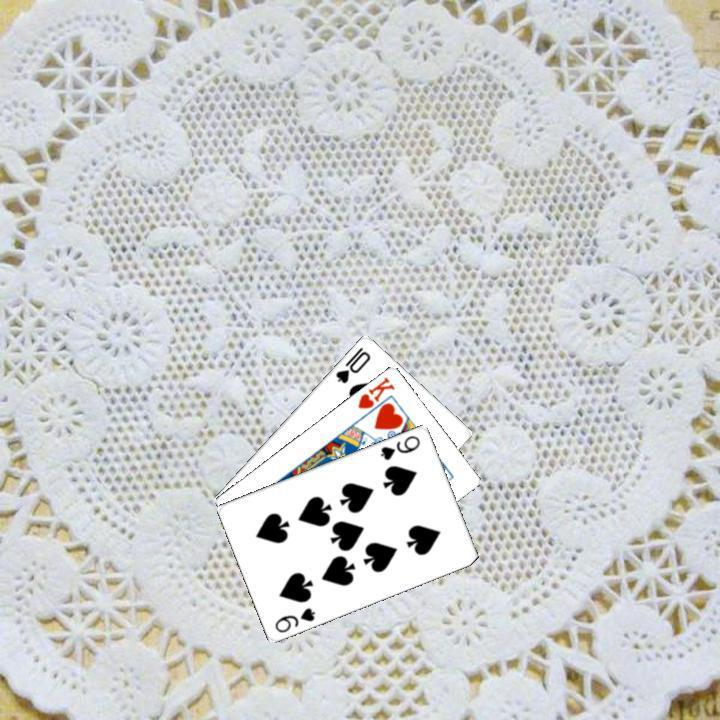10: (331, 342, 373, 385)
9: (376, 431, 422, 462), (271, 603, 317, 634)
K: (353, 372, 397, 411)
